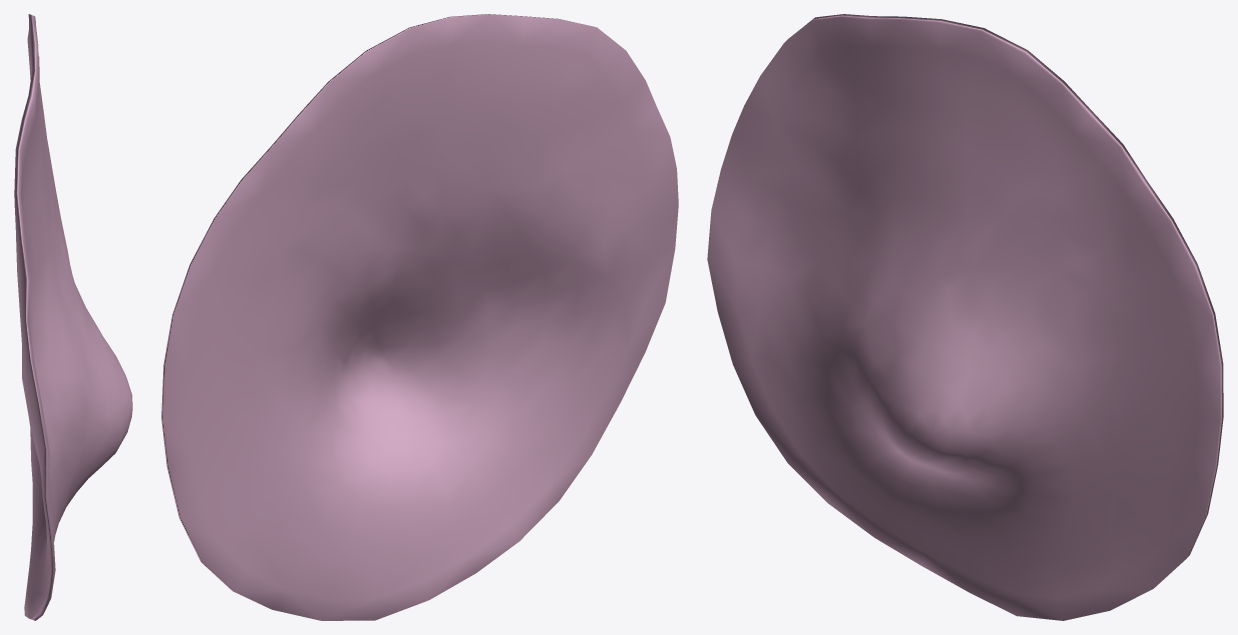
The picture shows the model from 3 angles, left to right: view 1: azimuth 30°, elevation 25°; view 2: azimuth 150°, elevation 25°; view 3: azimuth 270°, elevation 25°; orthographic projection. The views are drawn at different scales.
Parts seen in each view (by area): view 1: 右侧鼓膜; view 2: 右侧鼓膜; view 3: 右侧鼓膜.
Part boxes in pixels (x1=…): 右侧鼓膜: x1=14, y1=14, x2=132, y2=620; 右侧鼓膜: x1=161, y1=14, x2=678, y2=620; 右侧鼓膜: x1=707, y1=14, x2=1223, y2=620.
Bounding box in the file's own units: 0.00732 × 0.0155 × 0.0125.
